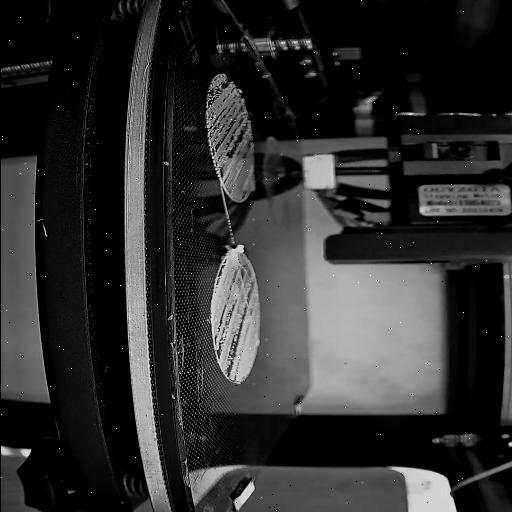under_extrusion: (214, 255, 252, 383), (207, 74, 253, 176), (221, 184, 251, 206)
